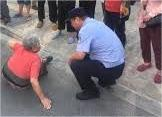bending: (63, 9, 129, 102)
down: (1, 26, 62, 109)
